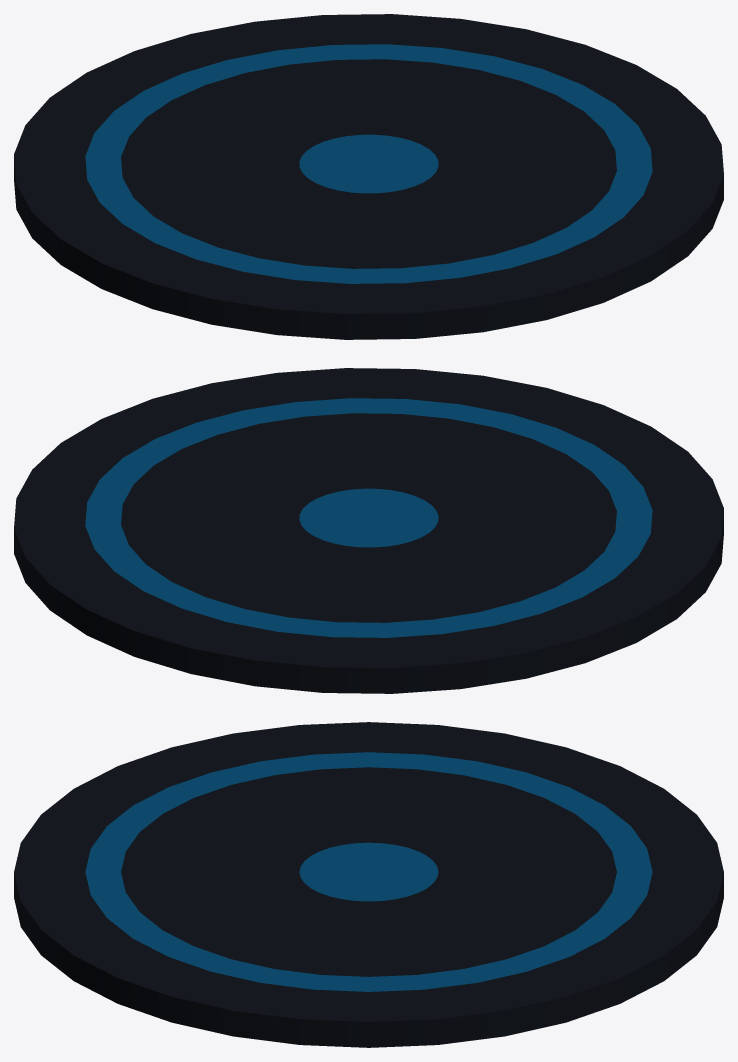
File: Spawn_Blue.glb
3 renders of one model, top to bottom at view 1: azimuth 30°, elevation 25°; view 2: azimuth 150°, elevation 25°; view 3: azimuth 270°, elevation 25°, orthographic.
Parts seen in each view (by area): view 1: Spawn_Blue; view 2: Spawn_Blue; view 3: Spawn_Blue.
Part boxes in pixels (x1=…): Spawn_Blue: x1=14, y1=14, x2=723, y2=339; Spawn_Blue: x1=14, y1=368, x2=723, y2=693; Spawn_Blue: x1=14, y1=722, x2=723, y2=1047.
Size of the model in its own units: 1 by 0.04 by 1.
